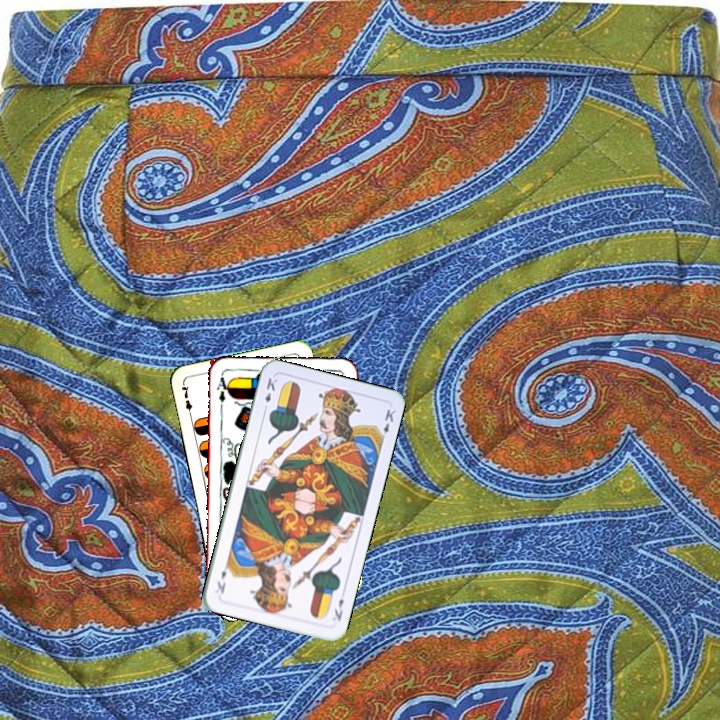E7: (177, 380, 195, 421)
EA: (213, 372, 232, 412)
EK: (259, 374, 280, 414), (330, 595, 346, 624)
